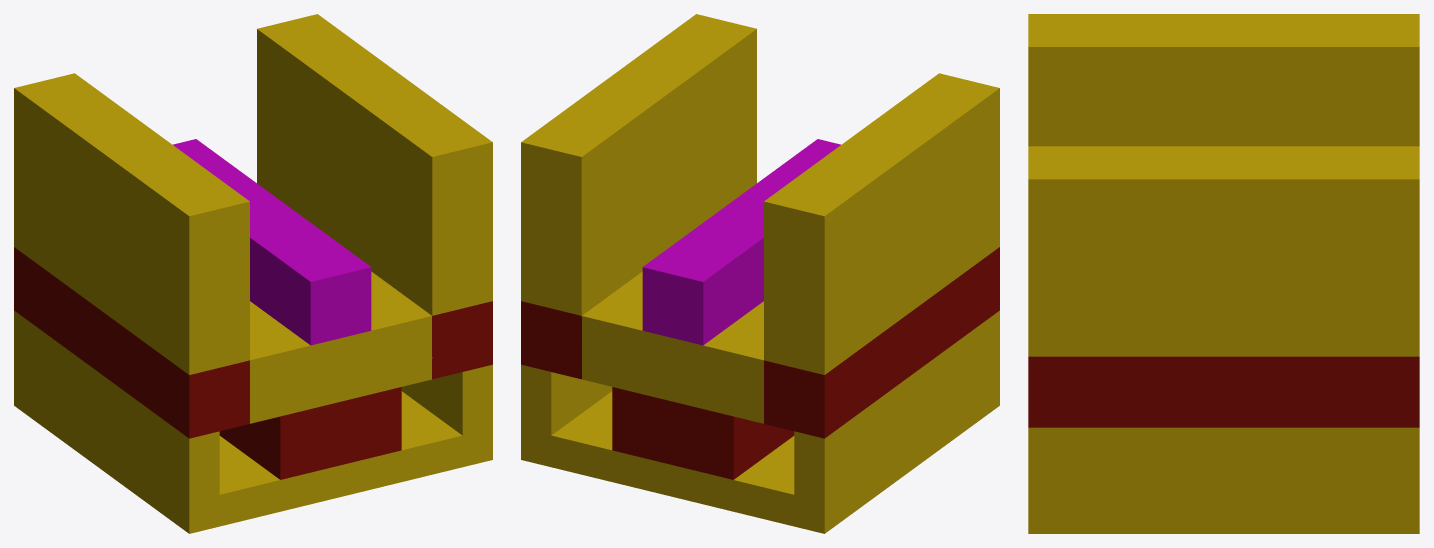
File: Brax.fbx
3 renders of one model, left to right at view 1: azimuth 30°, elevation 25°; view 2: azimuth 150°, elevation 25°; view 3: azimuth 270°, elevation 25°, orthographic. The views are drawn at different scales.
Visible parts, largest first — view 1: Brax; view 2: Brax; view 3: Brax.
Boxes of the visible parts, bbox=[...] form: Brax: bbox=[14, 14, 492, 533]; Brax: bbox=[521, 14, 999, 533]; Brax: bbox=[1028, 14, 1419, 533].
Bounding box in the file's own units: 10 × 10 × 10.
1 material, 1 textured.
